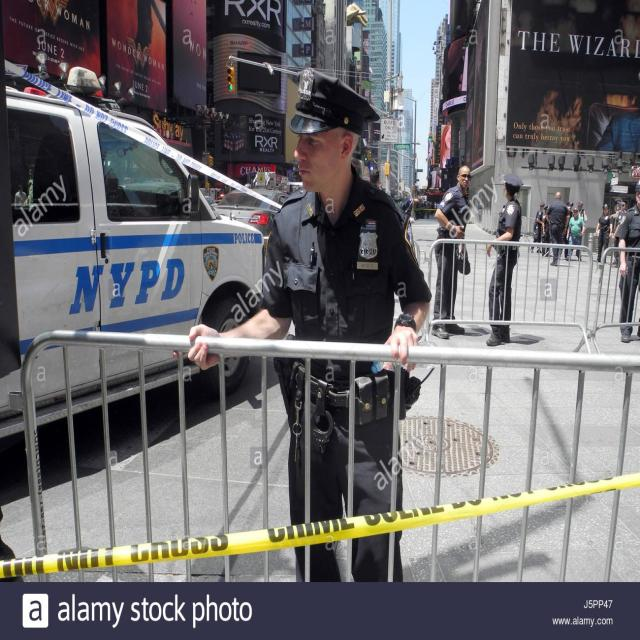body: (170, 65, 434, 584), (428, 164, 472, 340), (484, 172, 523, 346), (614, 178, 640, 342), (590, 73, 640, 152), (545, 190, 571, 267), (608, 201, 628, 265), (595, 202, 613, 264), (565, 206, 585, 261), (612, 201, 628, 265), (557, 201, 574, 260), (397, 195, 437, 220), (529, 201, 545, 253), (572, 200, 587, 252), (426, 134, 438, 190), (503, 332, 544, 346), (454, 323, 490, 338), (541, 205, 551, 257), (441, 124, 452, 166), (368, 169, 380, 188)
